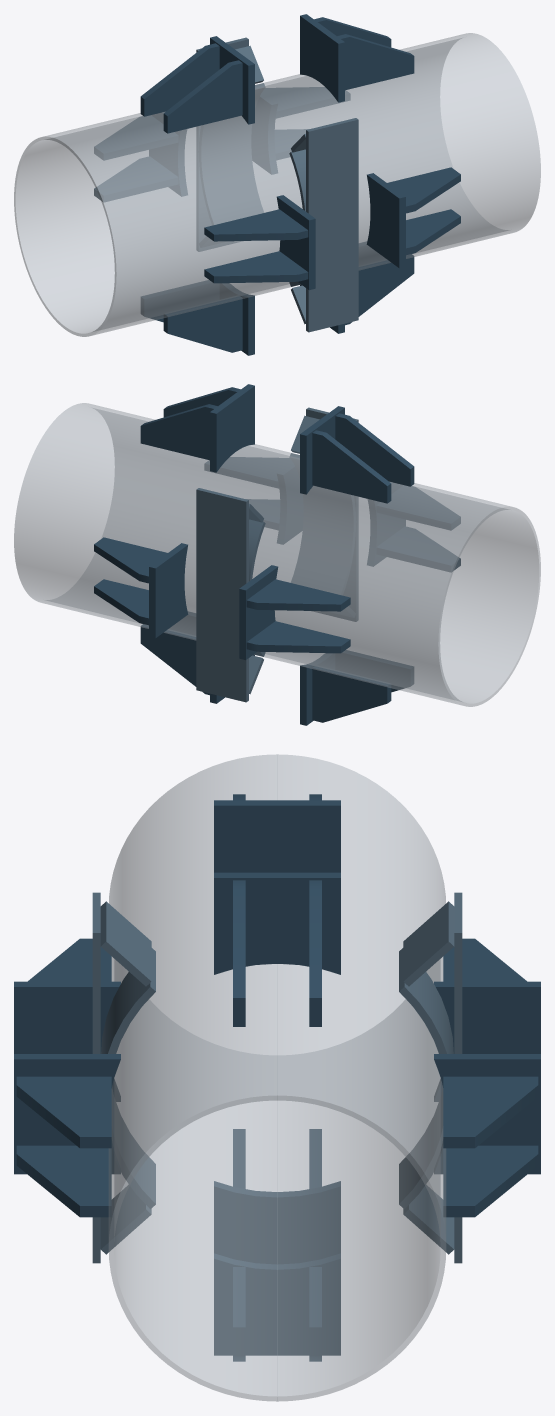
File: TS-668.00.00-14-opora-dn426-ris2.glb
3 views of the same model, one above another, from view 1: azimuth 30°, elevation 25°; view 2: azimuth 150°, elevation 25°; view 3: azimuth 270°, elevation 25° (orthographic). The views are drawn at different scales.
Parts seen in each view (by area): view 1: truba, bok_26, bok_29, upor_6, upor_17, upor_7, upor_1, upor_3, upor_5, upor_11, upor_12, upor_23 (+15 smaller); view 2: truba, bok_30, bok_25, upor_5, upor_18, upor_19, upor_1, upor_2, upor_6, upor_23, upor_24, upor_12 (+15 smaller); view 3: truba, upor_1, upor_13, upor_4, upor_16, upor_10, upor_22, upor_8, upor_21, upor_9, upor_20, bok_25 (+17 smaller).
Boxes of the visible parts, <box> form: truba: <box>14,33,540,336</box>; bok_26: <box>306,118,358,332</box>; bok_29: <box>199,83,264,224</box>; upor_6: <box>163,60,242,133</box>; upor_17: <box>163,295,242,352</box>; upor_7: <box>366,173,405,268</box>; upor_1: <box>300,14,344,102</box>; upor_3: <box>337,34,414,90</box>; upor_5: <box>140,43,219,116</box>; upor_11: <box>204,209,308,241</box>; upor_12: <box>204,251,308,283</box>; upor_23: <box>94,156,178,201</box>; truba: <box>14,403,540,706</box>; bok_30: <box>196,488,248,702</box>; bok_25: <box>290,453,355,594</box>; upor_5: <box>312,430,391,503</box>; upor_18: <box>312,665,391,722</box>; upor_19: <box>149,543,188,638</box>; upor_1: <box>210,384,254,472</box>; upor_2: <box>140,404,217,460</box>; upor_6: <box>335,413,414,486</box>; upor_23: <box>246,621,350,653</box>; upor_24: <box>246,579,350,611</box>; upor_12: <box>376,526,460,571</box>; truba: <box>108,754,446,1401</box>; upor_1: <box>214,872,340,974</box>; upor_13: <box>214,1253,340,1355</box>; upor_4: <box>214,800,340,872</box>; upor_16: <box>214,1181,340,1264</box>; upor_10: <box>14,981,120,1101</box>; upor_22: <box>434,981,540,1101</box>; upor_8: <box>16,1076,111,1148</box>; upor_21: <box>443,1076,538,1148</box>; upor_9: <box>16,1145,111,1217</box>; upor_20: <box>443,1145,538,1217</box>; bok_25: <box>101,948,155,1208</box>.
Bounding box in the file's own units: 1018 × 665 × 665.
